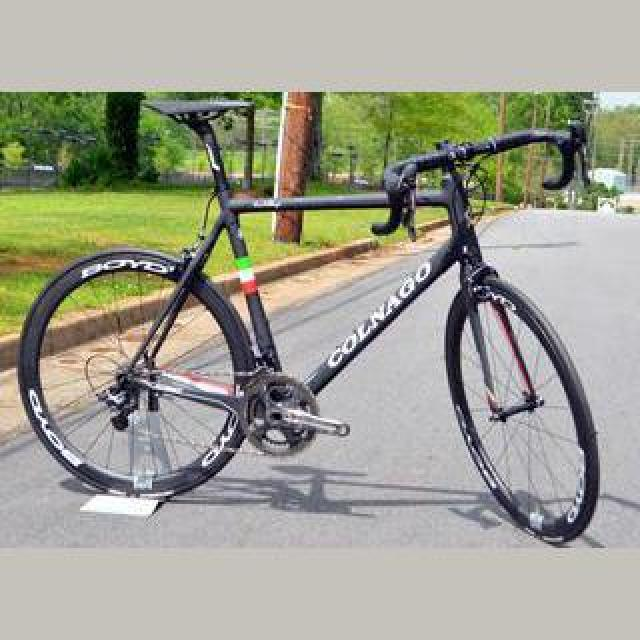Person: (29, 93, 597, 529)
